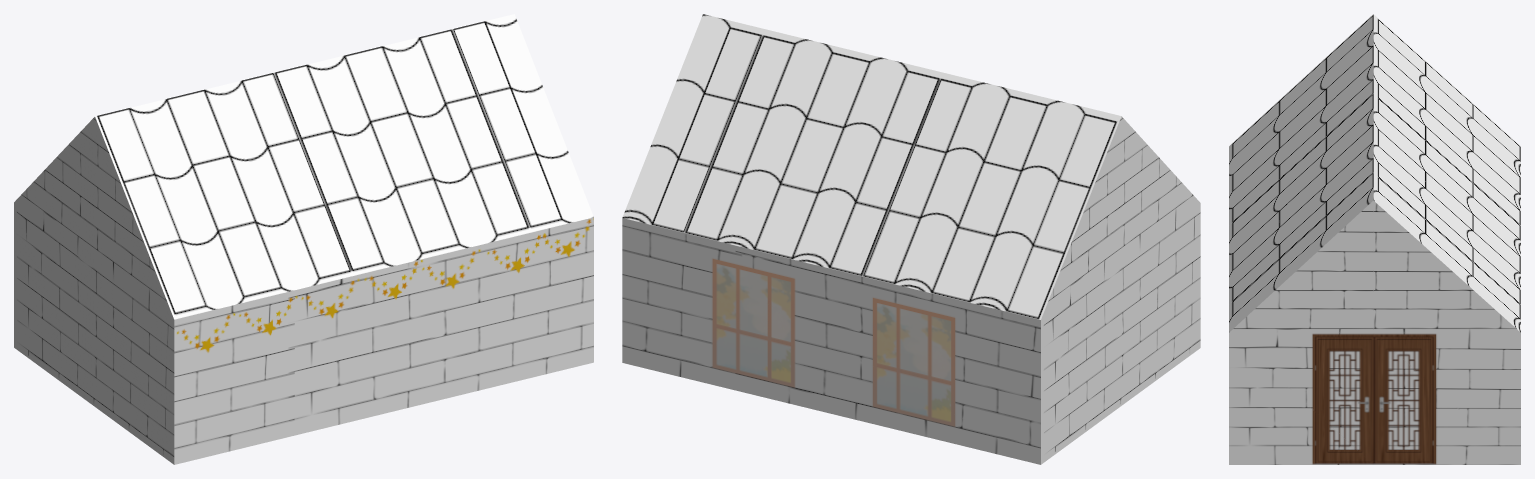
The model's file is LATIHAN 4 RUMAH MATERIAL.fbx.
3 renders of one model, left to right at view 1: azimuth 30°, elevation 25°; view 2: azimuth 150°, elevation 25°; view 3: azimuth 270°, elevation 25°, orthographic. The views are drawn at different scales.
Visible parts, largest first — view 1: Cube; view 2: Cube; view 3: Cube.
Boxes of the visible parts, x1=… form: Cube: x1=14, y1=14, x2=593, y2=464; Cube: x1=622, y1=14, x2=1200, y2=464; Cube: x1=1229, y1=14, x2=1520, y2=464.
Size of the model in its own units: 302 by 200 by 200.
1 material, 1 textured.
